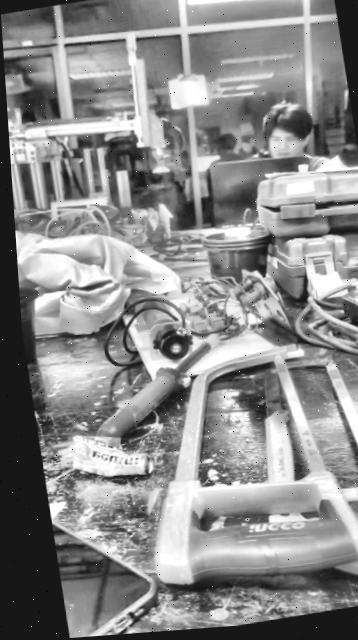pot: (19, 280, 49, 367)
